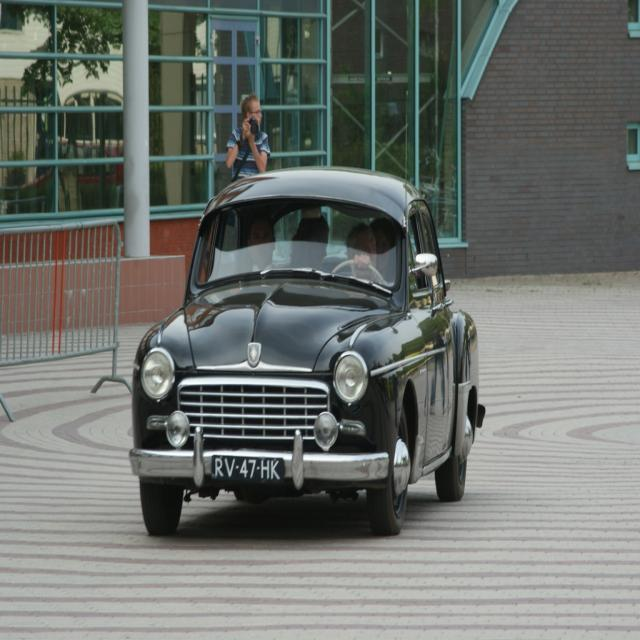car: (121, 153, 475, 535)
